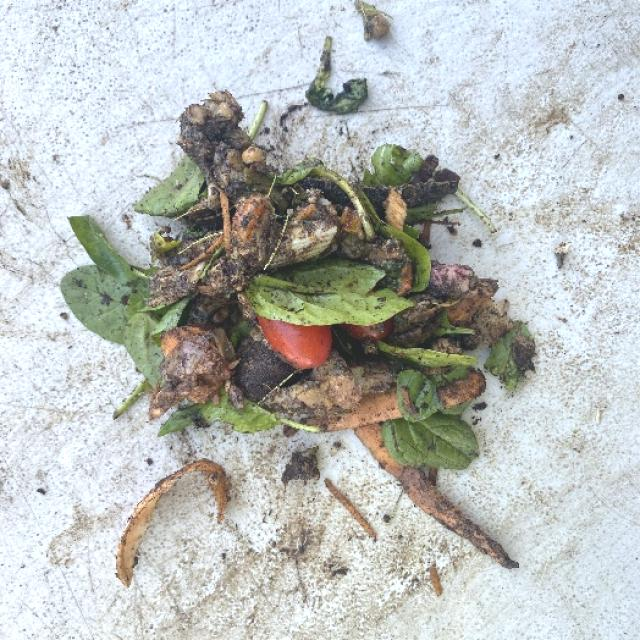organic: (366, 145, 497, 238), (256, 313, 333, 370)
